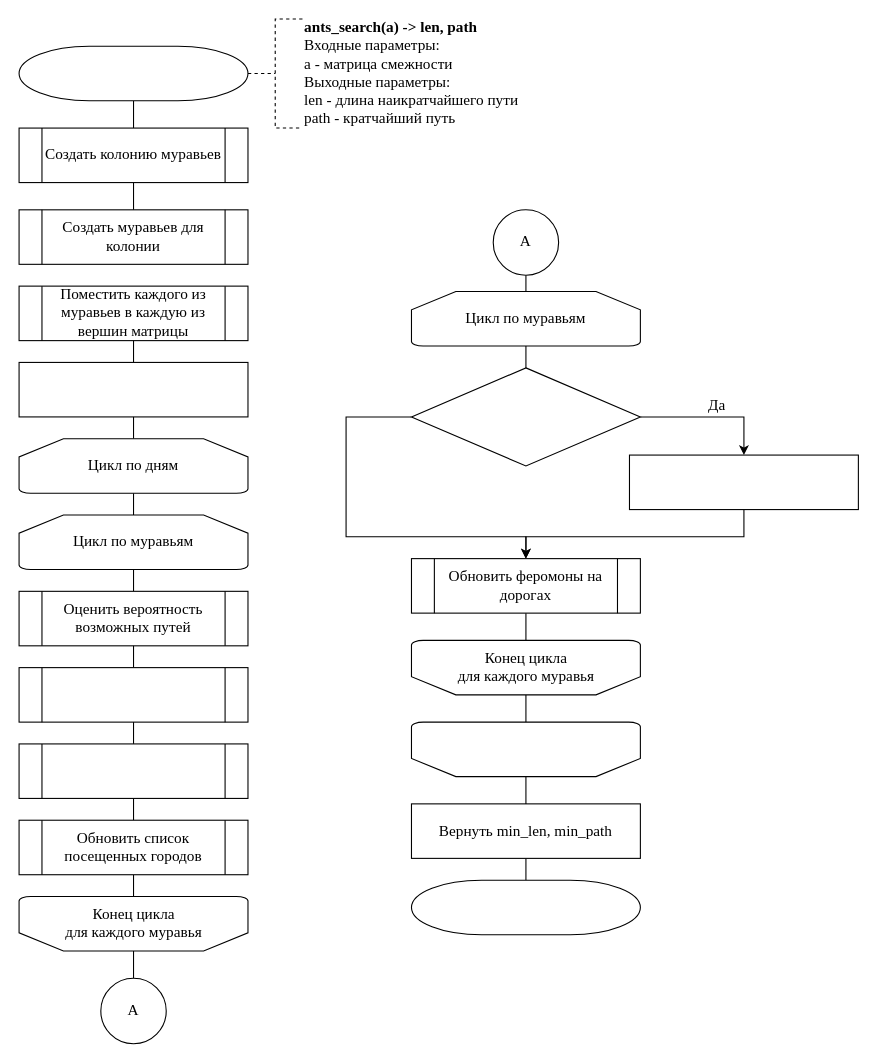
Some shapes in this 877 by 1063 pixel diagram are drawn without their labels. The centre of each missing label's shape, as x and y in pixels:
"min_len = Длина пути муравья min_path = путь муравья" belongs at (743,482).
"min_len = ∞ min_path = [1 .. length(a)]" belongs at (133,389).
"Длина пути < min_len?" belongs at (525,416).
"Конец" belongs at (525,907).
"Конец цикла по дням" belongs at (525,749).
"Начало" belongs at (133,73).
"Переместиться в выбранный город на основе двух оценок" belongs at (133,770).
"Подбросить монетку" belongs at (133,694).
